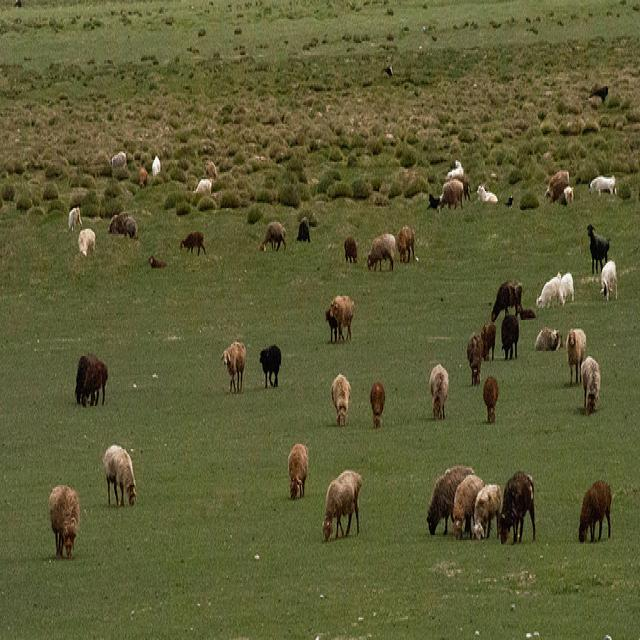cow: (364, 231, 394, 270), (328, 294, 353, 339), (259, 343, 280, 386), (369, 378, 384, 425), (482, 375, 497, 420), (534, 325, 562, 349)
